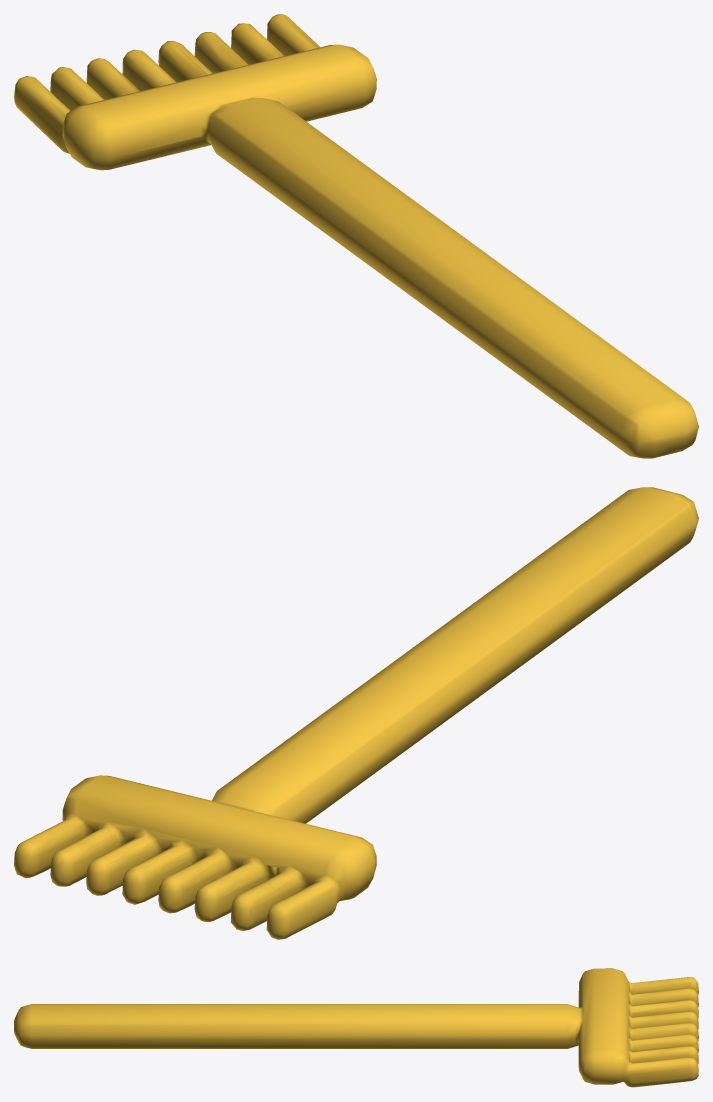
File: shore_toy_rake_lod1.glb
3 renders of one model, top to bottom at view 1: azimuth 30°, elevation 25°; view 2: azimuth 150°, elevation 25°; view 3: azimuth 270°, elevation 25°, orthographic. The views are drawn at different scales.
Parts seen in each view (by area): view 1: shore_toy_rake.001; view 2: shore_toy_rake.001; view 3: shore_toy_rake.001.
Part boxes in pixels (box(x1,y1,x2,y2)): shore_toy_rake.001: box(14, 14, 698, 458); shore_toy_rake.001: box(14, 487, 698, 939); shore_toy_rake.001: box(14, 968, 698, 1087).
Bounding box in the file's own units: 7 × 1.3 × 21.59.
